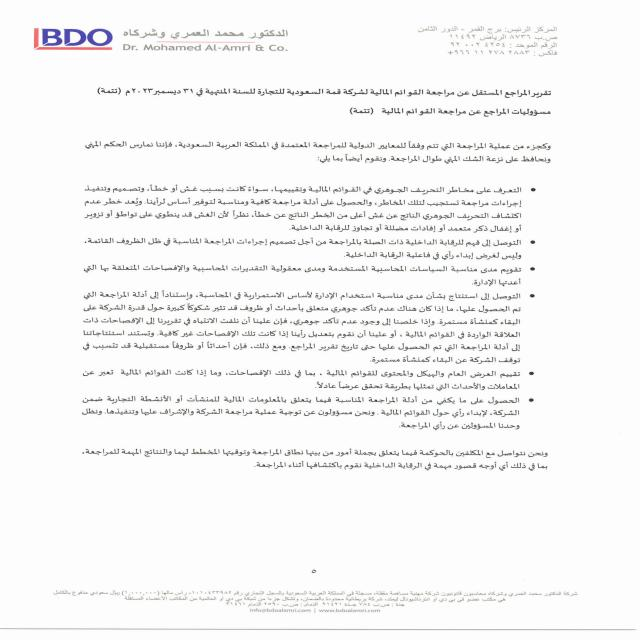auditor_report: (470, 84, 556, 105)
